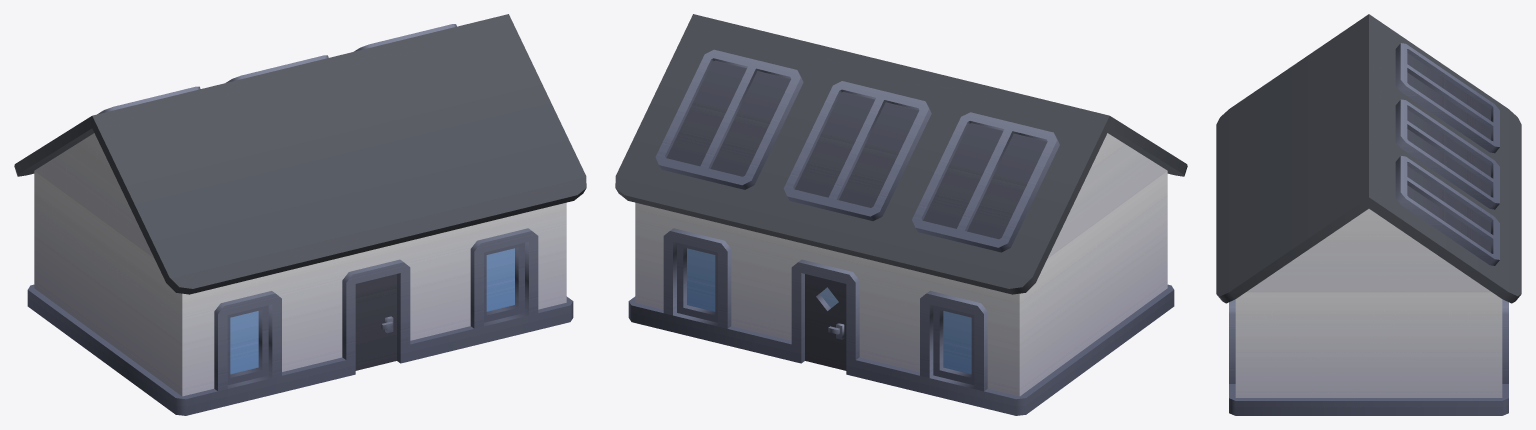
The model's file is farmhouse_h.glb.
The picture shows the model from 3 angles, left to right: view 1: azimuth 30°, elevation 25°; view 2: azimuth 150°, elevation 25°; view 3: azimuth 270°, elevation 25°; orthographic projection. The views are drawn at different scales.
Parts seen in each view (by area): view 1: building-type-h; view 2: building-type-h; view 3: building-type-h.
Part boxes in pixels (left/top/right/bottom): building-type-h: left=14, top=14, right=586, bottom=415; building-type-h: left=615, top=14, right=1187, bottom=415; building-type-h: left=1216, top=14, right=1521, bottom=415.
Size of the model in its own units: 1.3 by 0.7375 by 0.916.
Materials: 1 (1 with a texture image).
